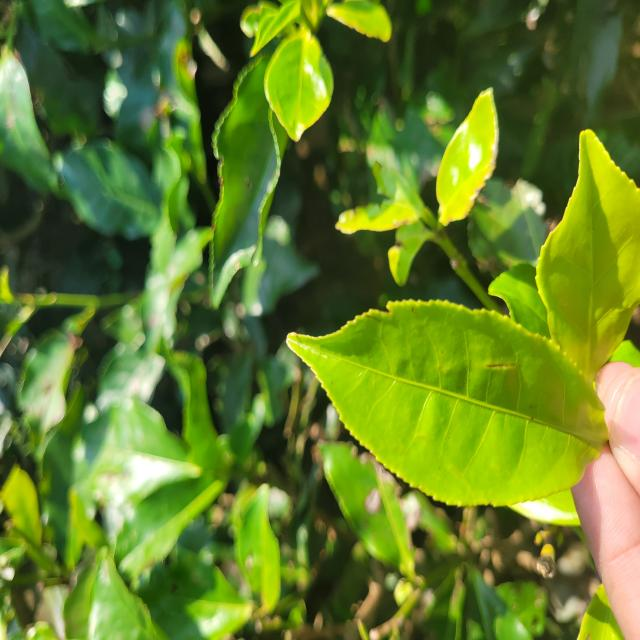Catagory A(1-2 days): (244, 300, 614, 526)
